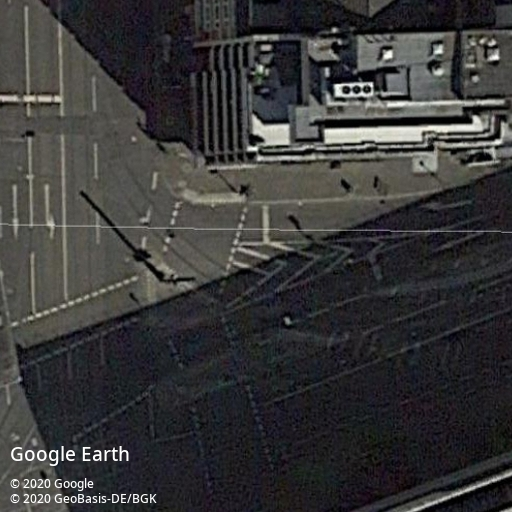Chiller: (332, 80, 374, 100)
